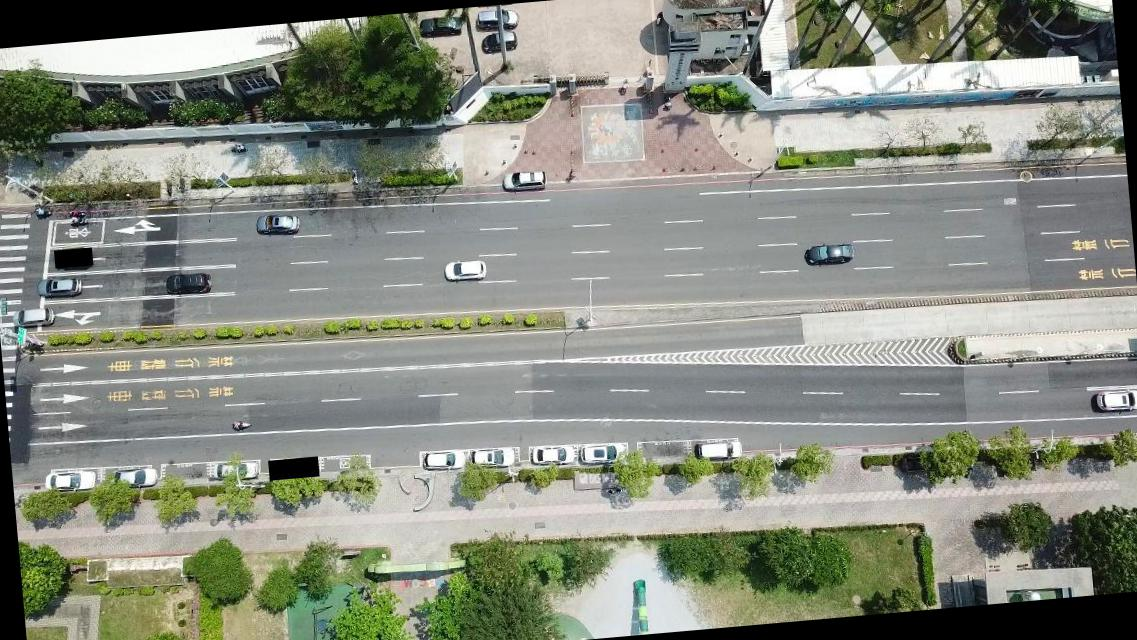vehicle: (164, 271, 212, 297), (418, 14, 466, 40), (530, 441, 576, 468), (802, 242, 853, 266), (254, 212, 300, 237), (211, 458, 256, 482), (694, 440, 742, 462), (1096, 389, 1136, 415), (468, 446, 513, 469), (46, 471, 94, 492), (10, 306, 54, 328), (501, 170, 545, 192), (580, 442, 624, 464), (422, 449, 464, 472), (444, 258, 486, 281), (113, 466, 156, 488), (38, 276, 82, 297), (475, 8, 518, 29), (480, 33, 516, 56)
